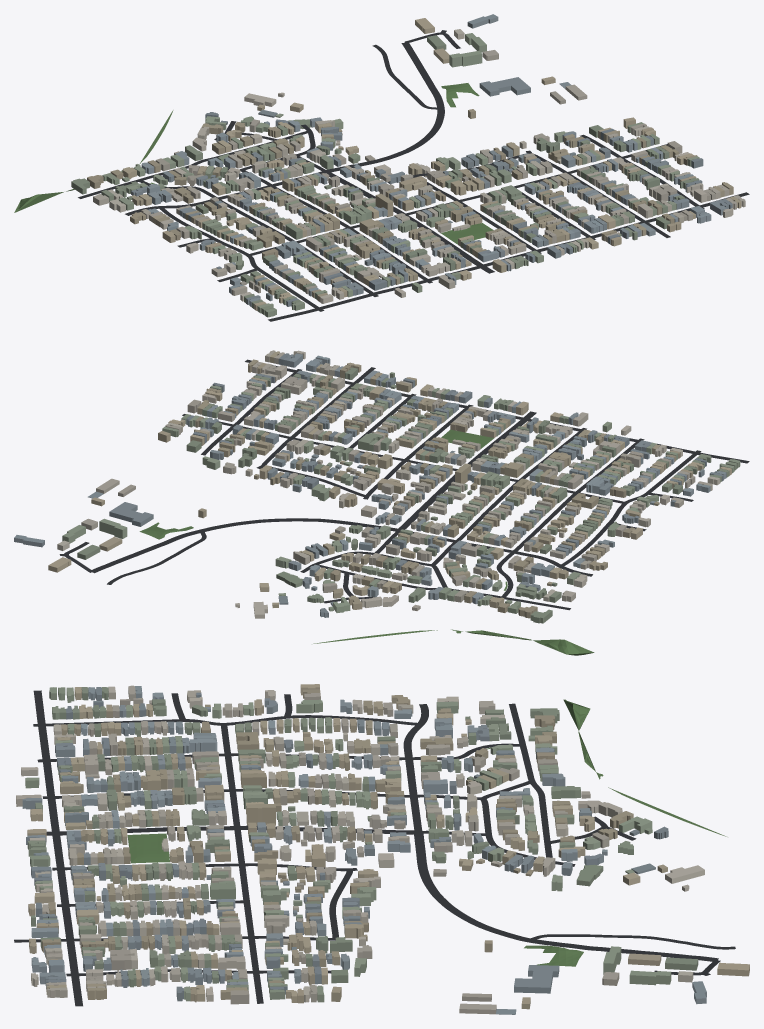
Rendered from tile_4_11.glb.
3 views of the same model, one above another, from view 1: azimuth 30°, elevation 25°; view 2: azimuth 150°, elevation 25°; view 3: azimuth 270°, elevation 25° (orthographic). The views are drawn at different scales.
Parts seen in each view (by area): view 1: bld_4_11, road_4_11, grn_4_11; view 2: bld_4_11, road_4_11, grn_4_11; view 3: bld_4_11, road_4_11, grn_4_11.
Part boxes in pixels (x1,y1,x2,y2): bld_4_11: (71, 14, 745, 317); road_4_11: (78, 30, 749, 321); grn_4_11: (14, 83, 493, 244); bld_4_11: (14, 350, 740, 623); road_4_11: (59, 359, 749, 610); grn_4_11: (139, 429, 594, 655); bld_4_11: (16, 684, 749, 1014); road_4_11: (14, 690, 735, 1006); grn_4_11: (127, 699, 726, 966).
Bounding box in the file's own units: 914 × 65.86 × 837.
